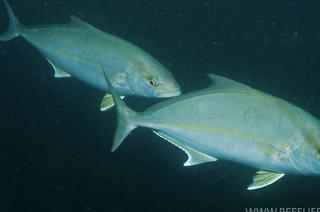Carangidae -Jacks-: (97, 59, 320, 194), (0, 0, 181, 100)
